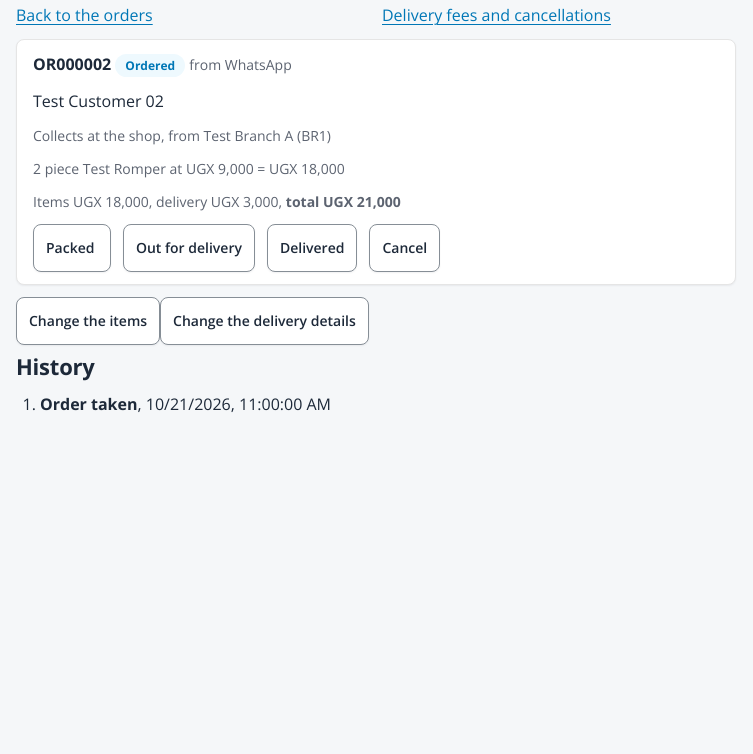
Test case: Change the items on the order page › will not save without any item
Step 1. Click the button "Change the items" → (88, 321), box [16,297,160,345]
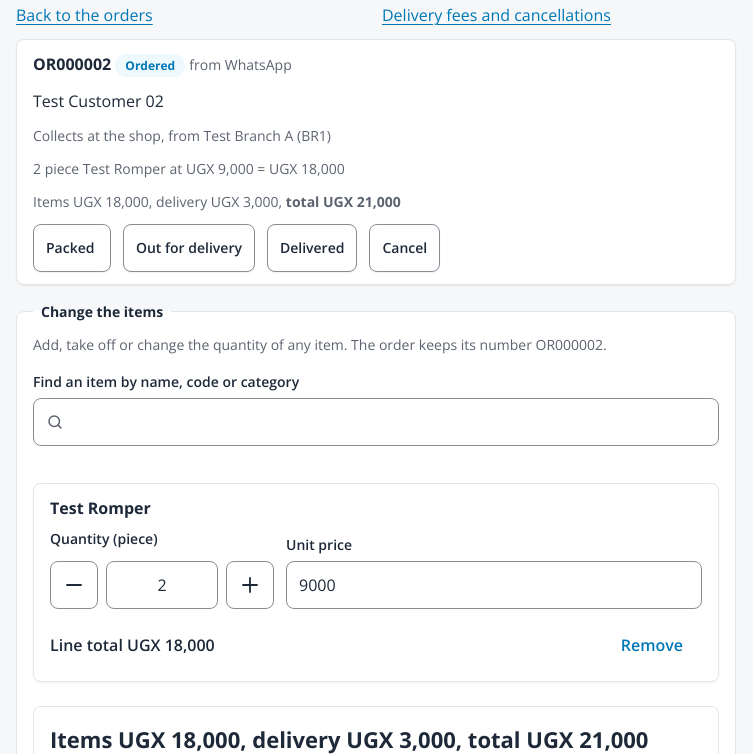
Now the field labelled "Quantity (piece)" is shown, box [106,561,218,609]
Step 2. Click the button "Remove" → (652, 645), box [602,621,702,669]
(page scrolled)
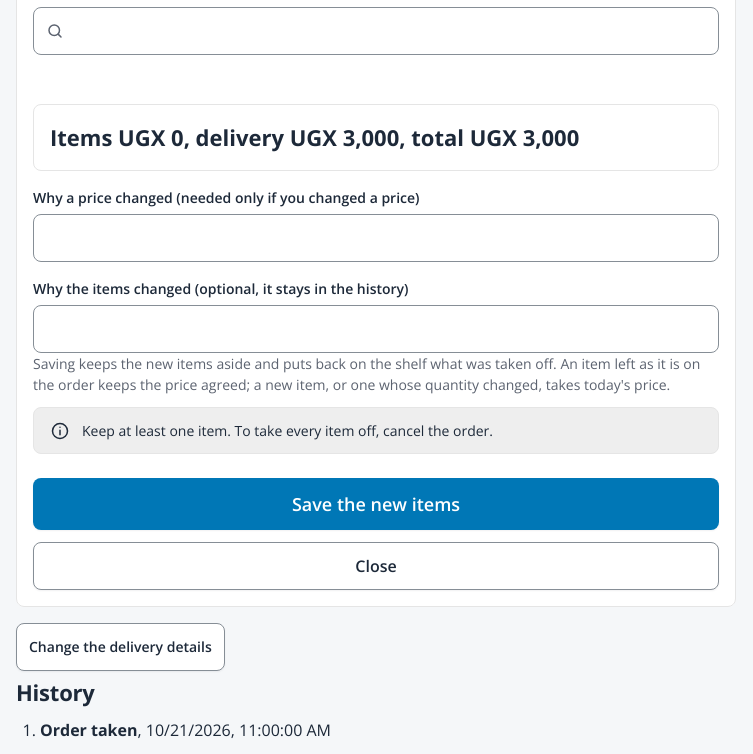
Now the text "cancel the order" is shown, box [82,421,493,440]
